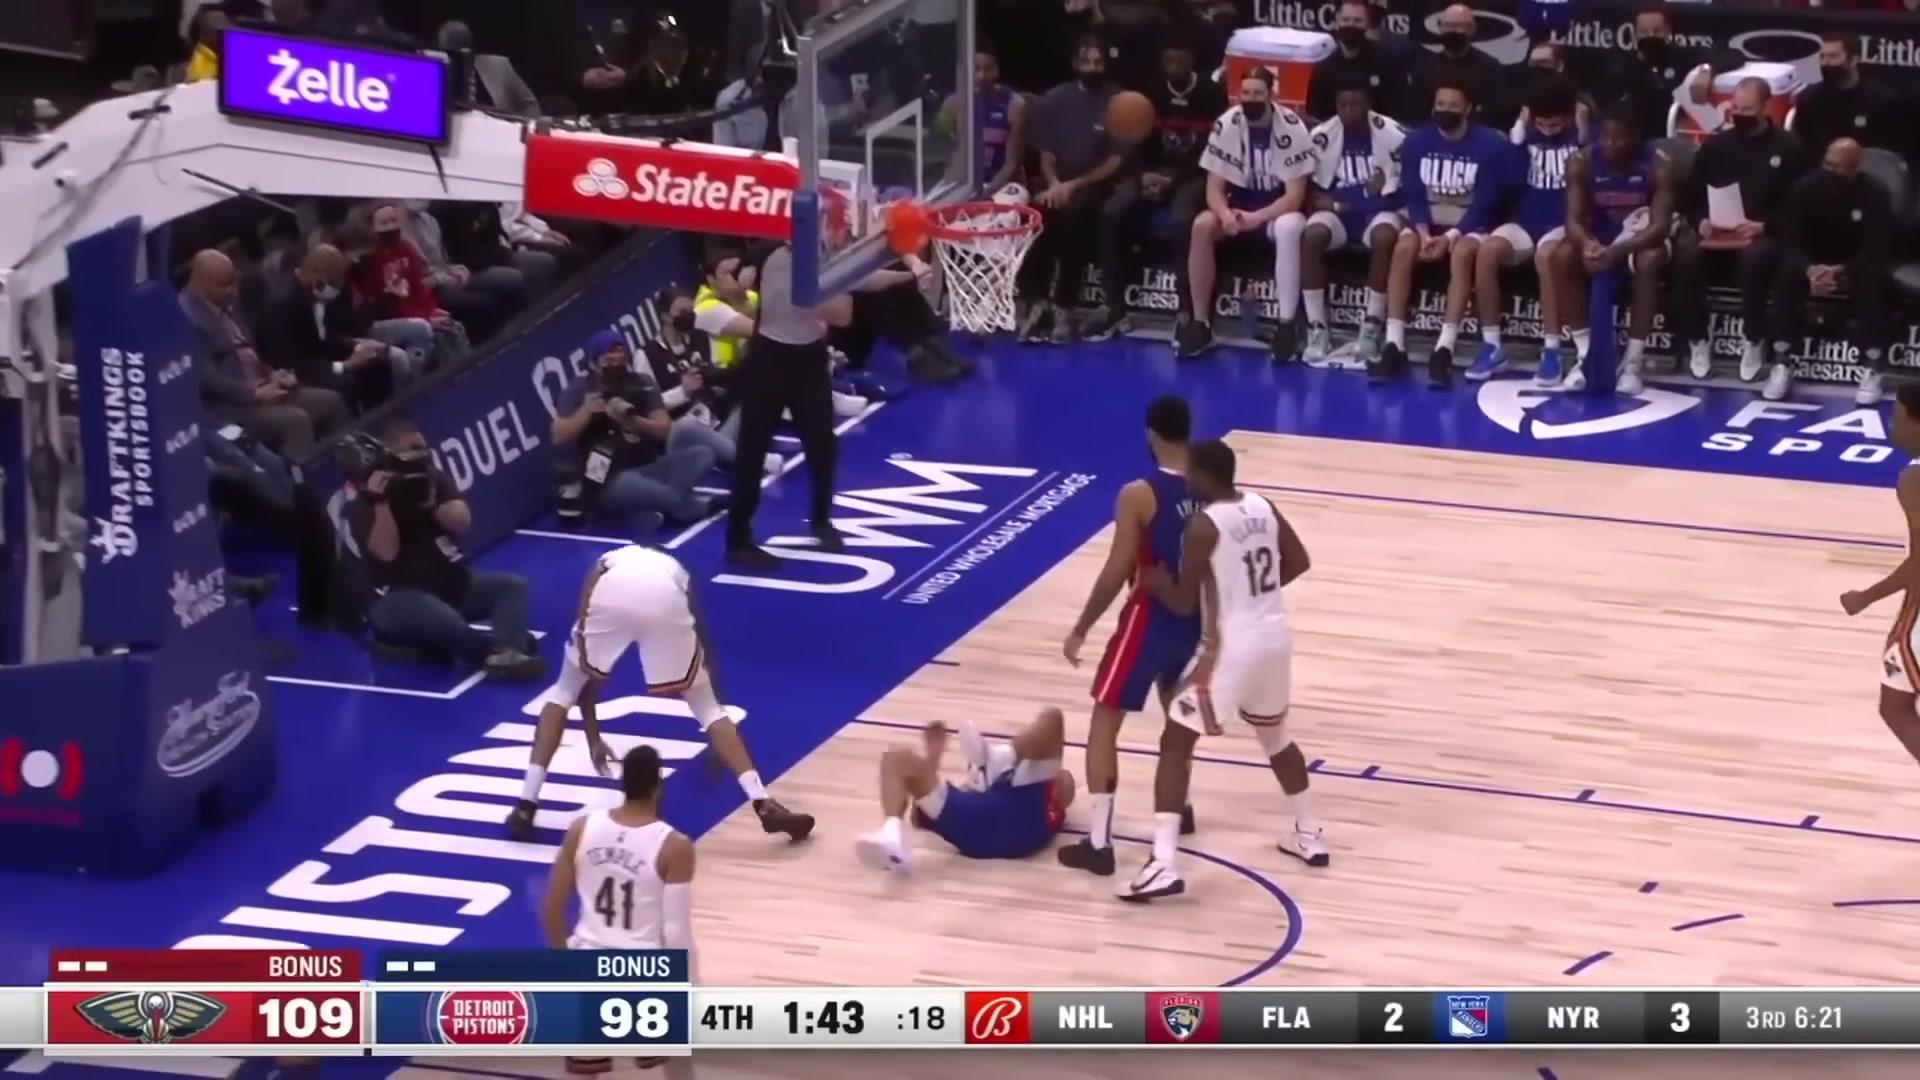foul: (571, 534, 1125, 855)
